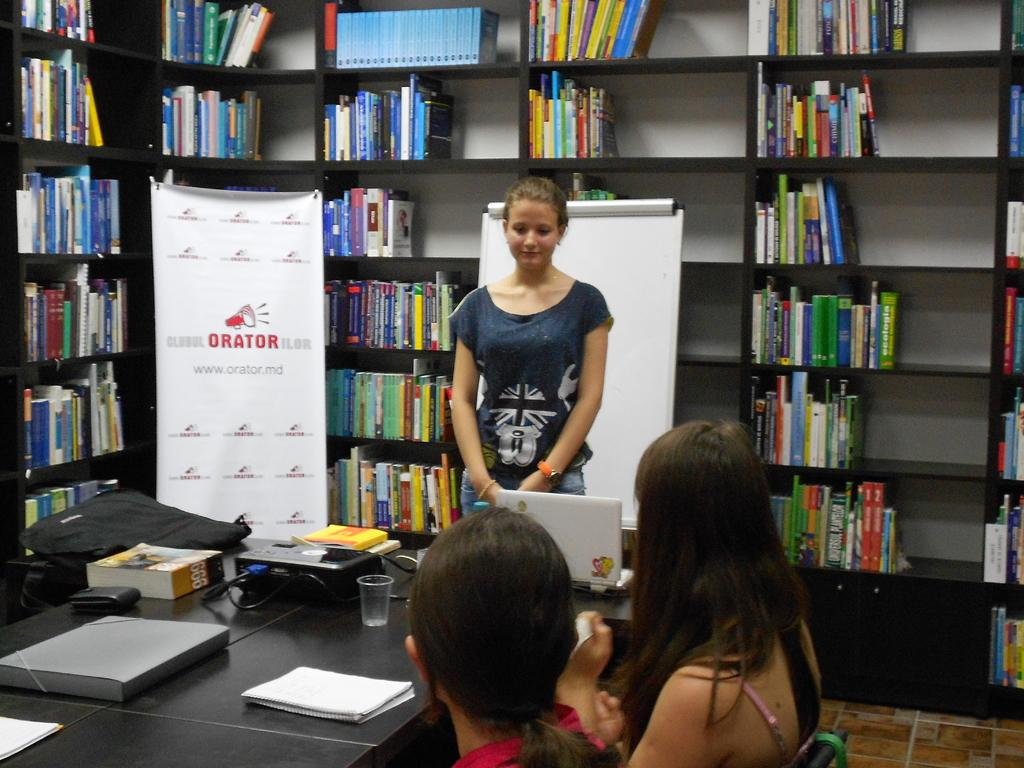Book: (0, 611, 233, 707), (765, 477, 914, 575), (316, 0, 495, 72), (19, 364, 134, 475), (326, 264, 472, 349), (323, 447, 463, 532), (324, 355, 456, 442), (761, 278, 877, 373), (24, 259, 134, 358), (753, 373, 867, 468), (764, 72, 886, 160), (754, 173, 867, 268), (326, 76, 450, 157), (13, 163, 123, 254), (15, 42, 106, 144), (81, 538, 225, 602), (527, 67, 627, 159), (527, 0, 667, 61), (17, 474, 123, 553), (160, 0, 274, 72), (766, 0, 906, 58), (159, 84, 265, 154), (326, 184, 412, 254), (979, 495, 1023, 588), (294, 518, 404, 552), (984, 602, 1023, 689), (15, 0, 94, 35), (995, 385, 1023, 481), (1002, 282, 1023, 372), (564, 172, 622, 201), (878, 291, 897, 369), (1002, 200, 1023, 270), (1008, 84, 1023, 156), (1008, 0, 1023, 57), (225, 180, 274, 192)
